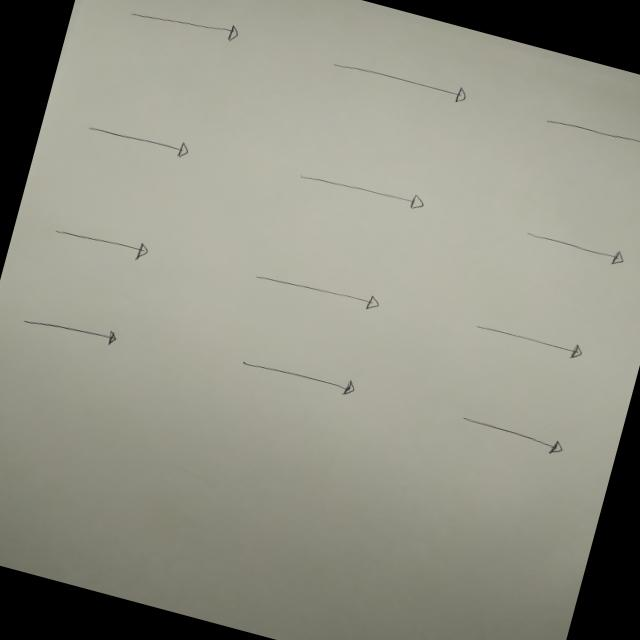arrow_line_right: (316, 40, 484, 119), (282, 154, 441, 224), (221, 342, 368, 408), (240, 258, 387, 322), (442, 401, 576, 466), (117, 0, 255, 55), (462, 312, 589, 370), (538, 100, 640, 172), (514, 217, 636, 277), (43, 214, 163, 270), (75, 112, 194, 166), (14, 302, 127, 352)
